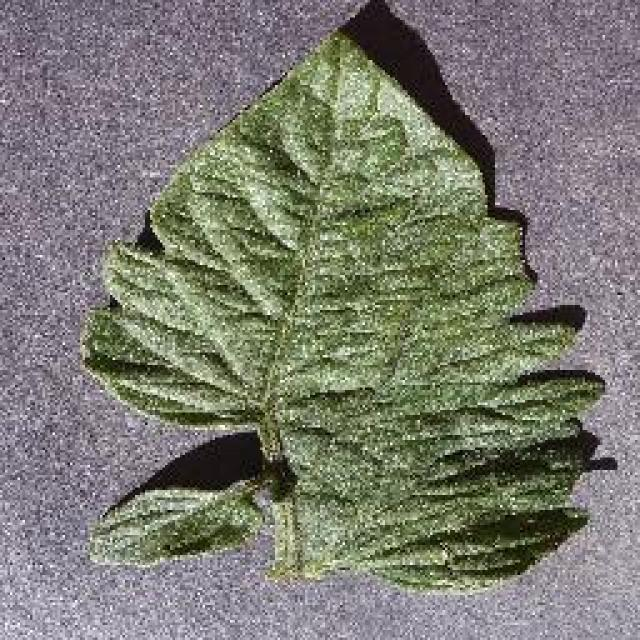Tomato_Healthy: (78, 26, 608, 592)
